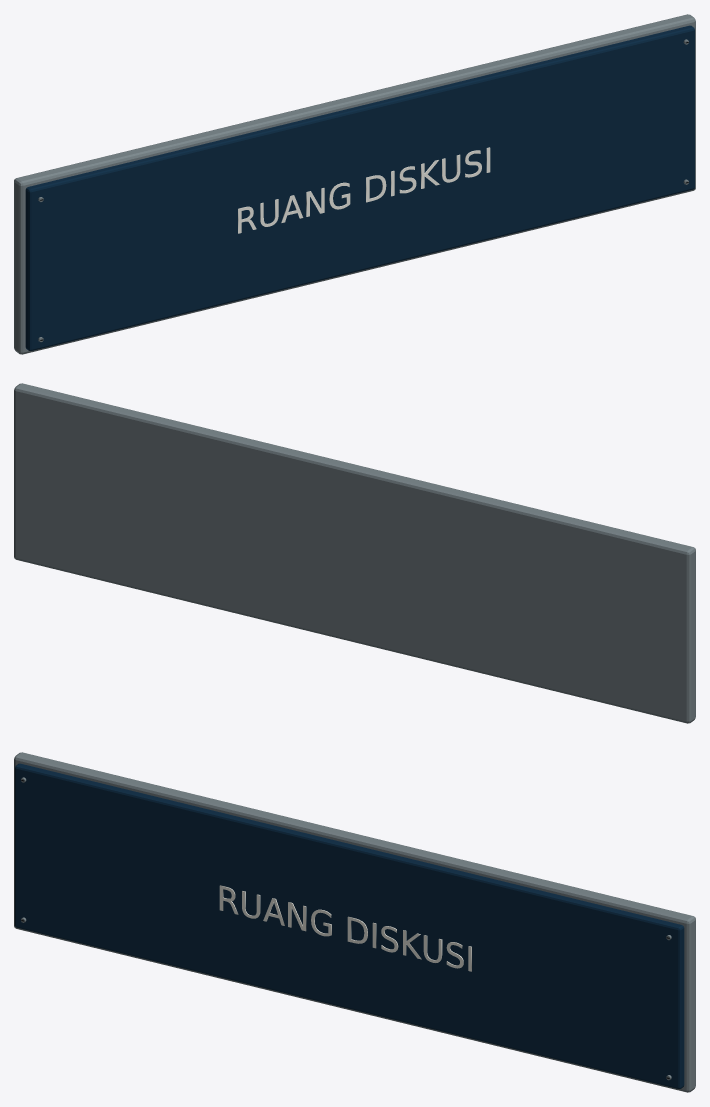
File: OAA_Papan_Ruang_Ruang_Diskusi.fbx
3 renders of one model, top to bottom at view 1: azimuth 30°, elevation 25°; view 2: azimuth 150°, elevation 25°; view 3: azimuth 330°, elevation 25°, orthographic.
Visible parts, largest first — view 1: Body; view 2: Body; view 3: Body.
Part boxes in pixels (<box>): Body: <box>14,14,695,354</box>; Body: <box>14,383,695,723</box>; Body: <box>14,752,695,1092</box>.
Bounding box in the file's own units: 0.9 × 0.22 × 0.0312.
